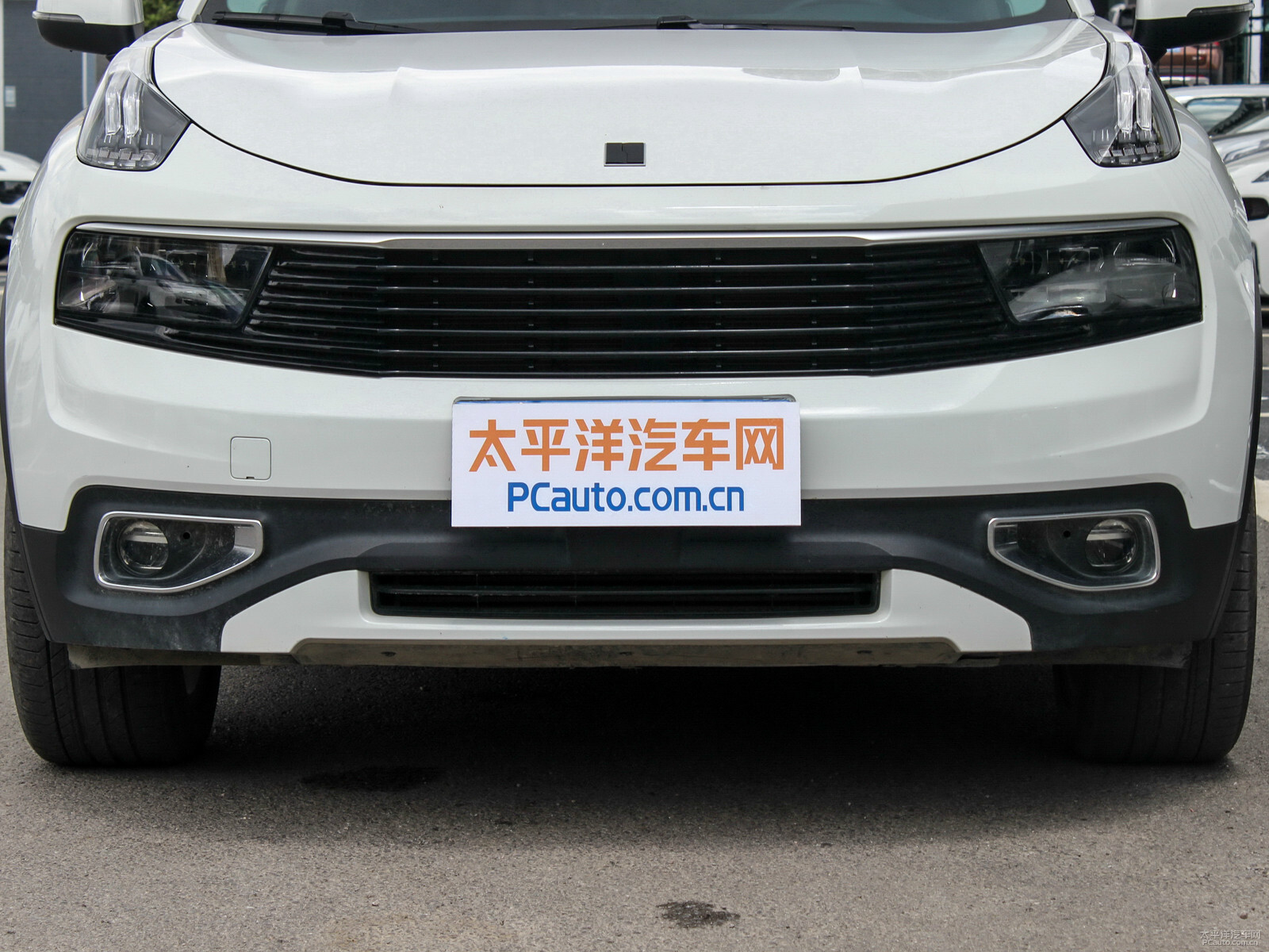LINK&CO: (606, 144, 644, 163)
